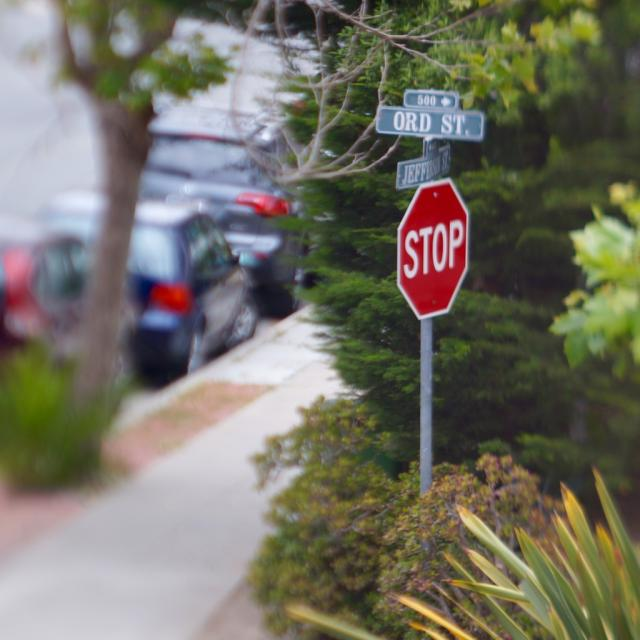Stop-sign: (396, 175, 470, 320)
